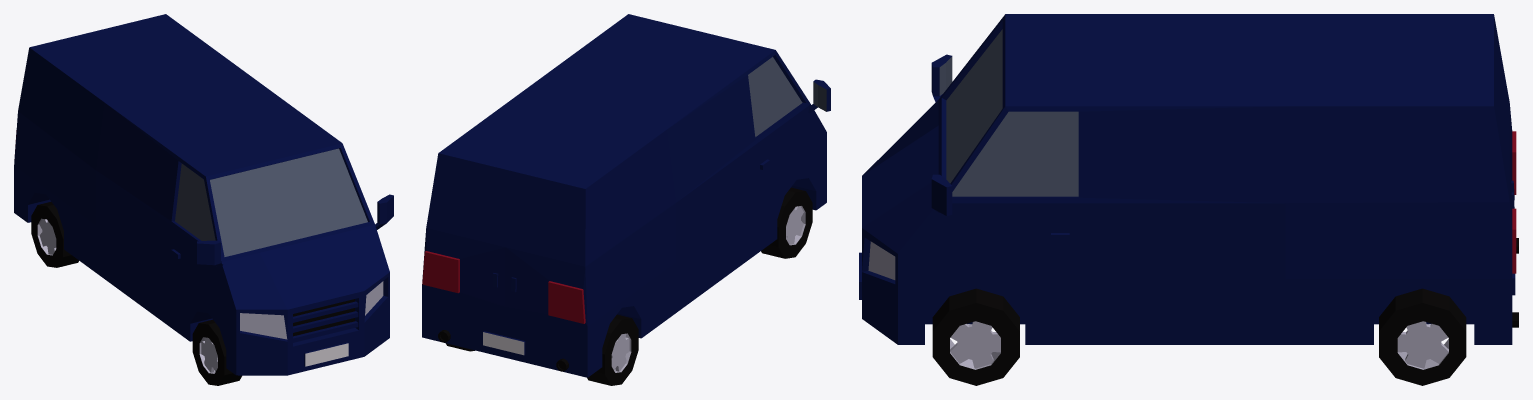
The model's file is Van.gltf.
The picture shows the model from 3 angles, left to right: view 1: azimuth 30°, elevation 25°; view 2: azimuth 150°, elevation 25°; view 3: azimuth 270°, elevation 25°; orthographic projection. The views are drawn at different scales.
Size of the model in its own units: 563 by 542 by 1181.
